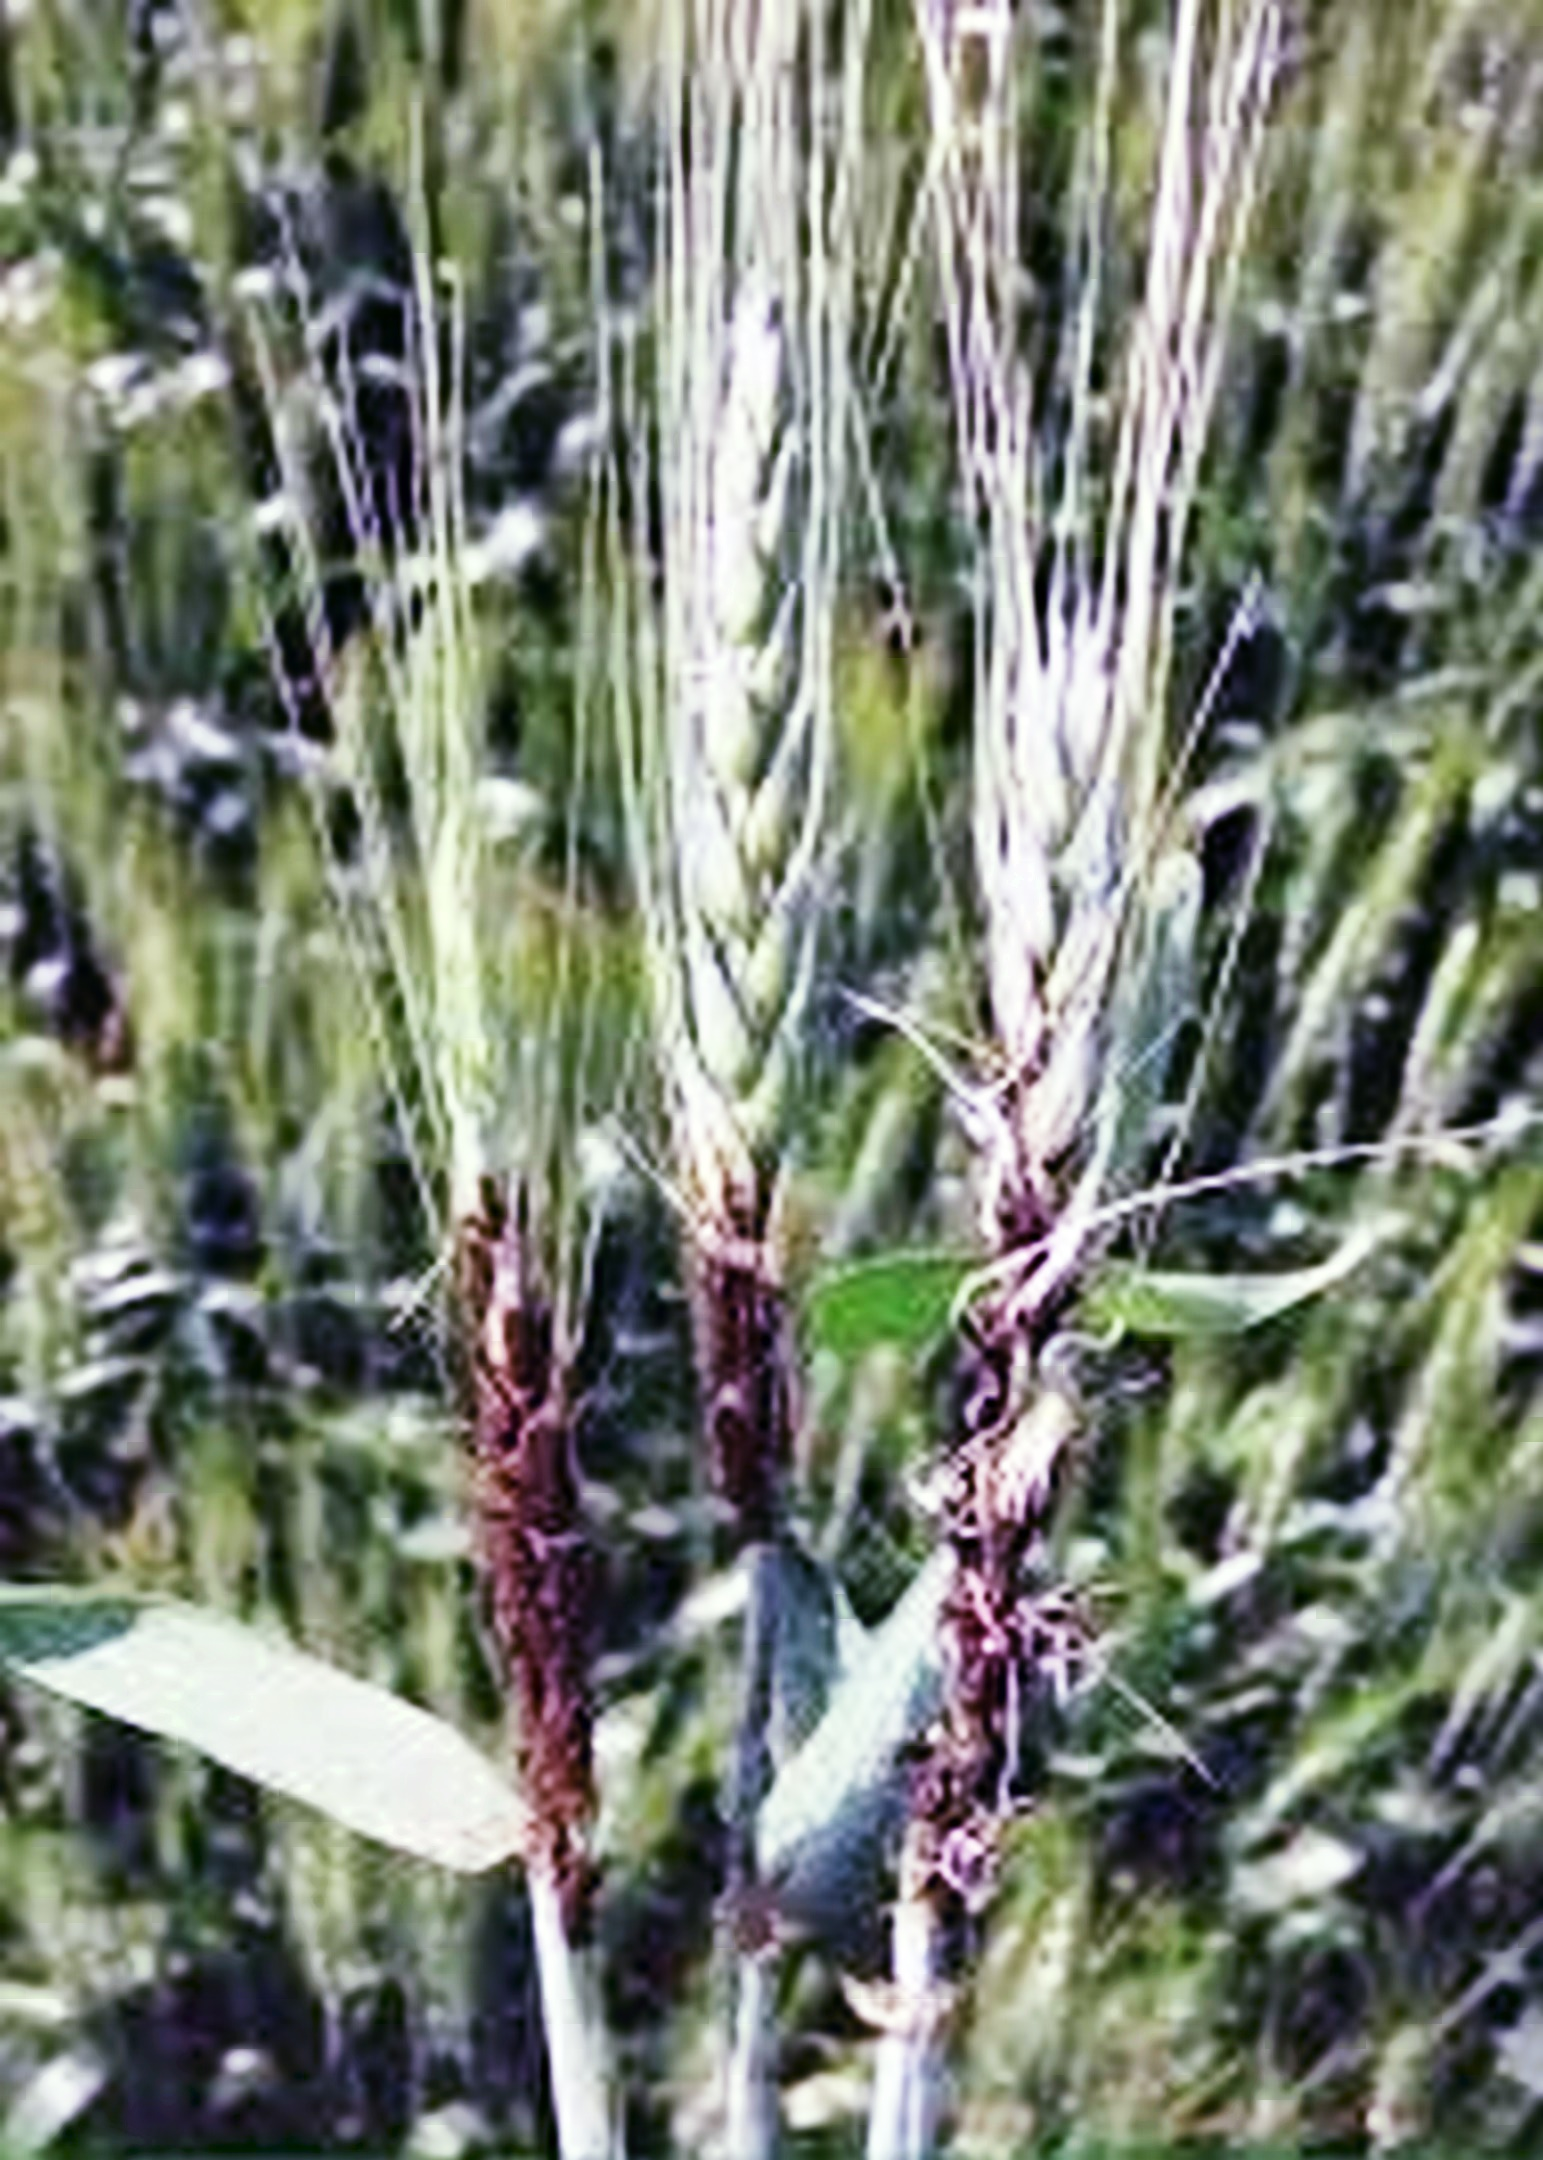Wheat Loose Smut: (407, 1145, 1119, 1901)
